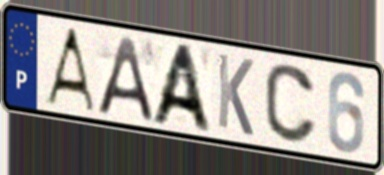6: (325, 70, 366, 155)
A: (146, 41, 215, 136), (93, 34, 156, 124), (41, 25, 97, 115)
C: (262, 61, 320, 147)
K: (215, 49, 256, 140)
